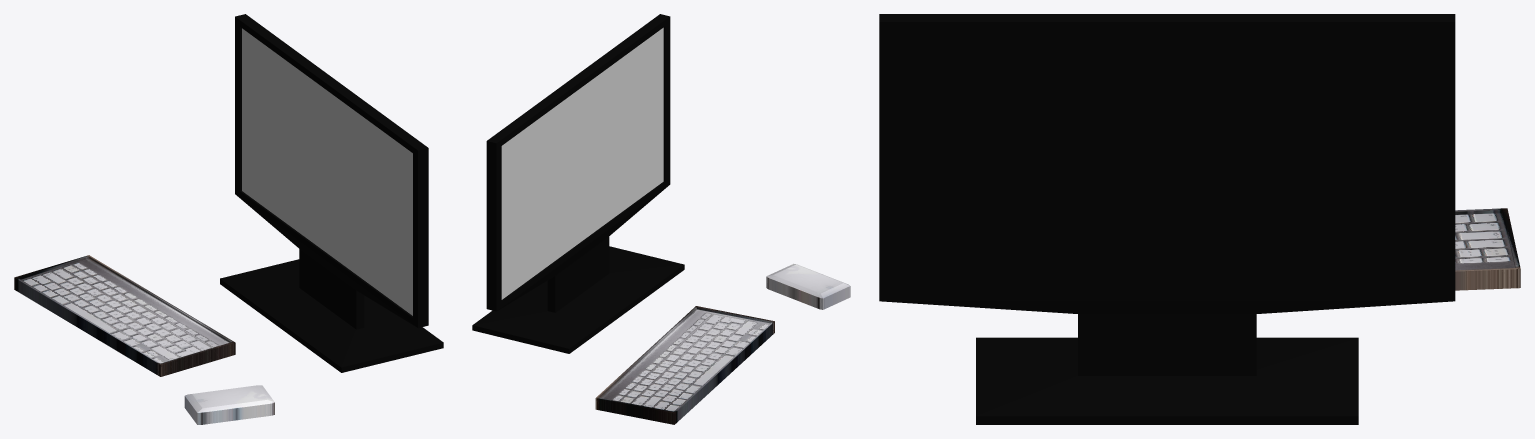
The model's file is Computer.fbx.
3 renders of one model, left to right at view 1: azimuth 30°, elevation 25°; view 2: azimuth 150°, elevation 25°; view 3: azimuth 270°, elevation 25°, orthographic. The views are drawn at different scales.
Visible parts, largest first — view 1: Cube.003, Cube.001, Cube.002; view 2: Cube.003, Cube.001, Cube.002; view 3: Cube.003, Cube.001.
Boxes of the visible parts, x1=… form: Cube.003: x1=220, y1=14, x2=443, y2=372; Cube.001: x1=14, y1=255, x2=235, y2=376; Cube.002: x1=184, y1=385, x2=274, y2=424; Cube.003: x1=472, y1=14, x2=684, y2=353; Cube.001: x1=595, y1=306, x2=774, y2=424; Cube.002: x1=766, y1=264, x2=850, y2=309; Cube.003: x1=879, y1=14, x2=1455, y2=424; Cube.001: x1=1455, y1=208, x2=1520, y2=290.
Size of the model in its own units: 132 by 113 by 178.
